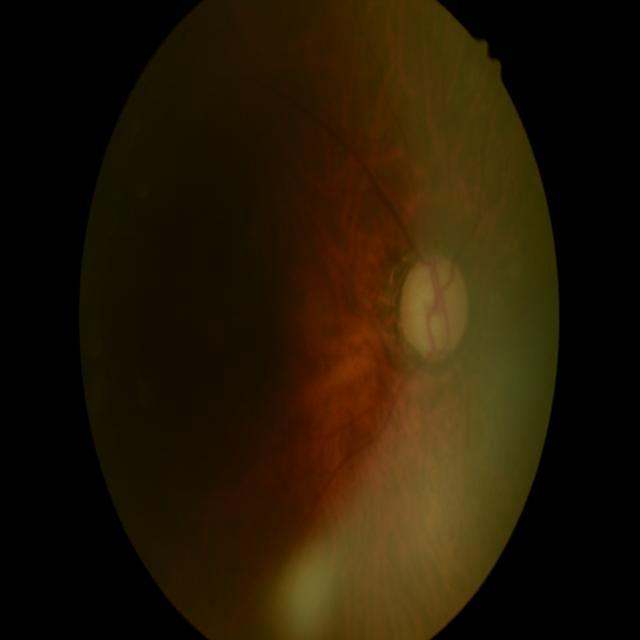cup: (402, 262, 465, 352)
disk: (398, 254, 470, 364)
